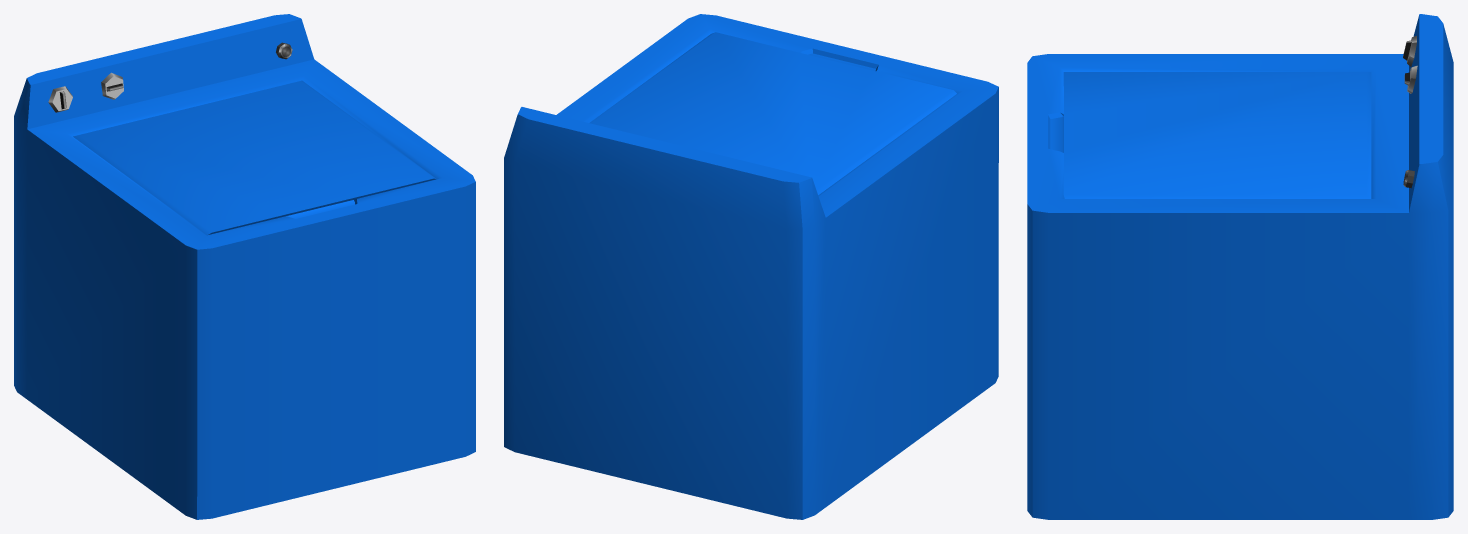
File: Washer_04.FBX
3 renders of one model, left to right at view 1: azimuth 30°, elevation 25°; view 2: azimuth 150°, elevation 25°; view 3: azimuth 270°, elevation 25°, orthographic. The views are drawn at different scales.
Parts seen in each view (by area): view 1: Washer; view 2: Washer; view 3: Washer.
Boxes of the visible parts, x1,y1,x2,y2 form: Washer: [14, 14, 475, 519]; Washer: [504, 14, 998, 519]; Washer: [1027, 14, 1453, 519].
Size of the model in its own units: 150 by 155 by 170.
